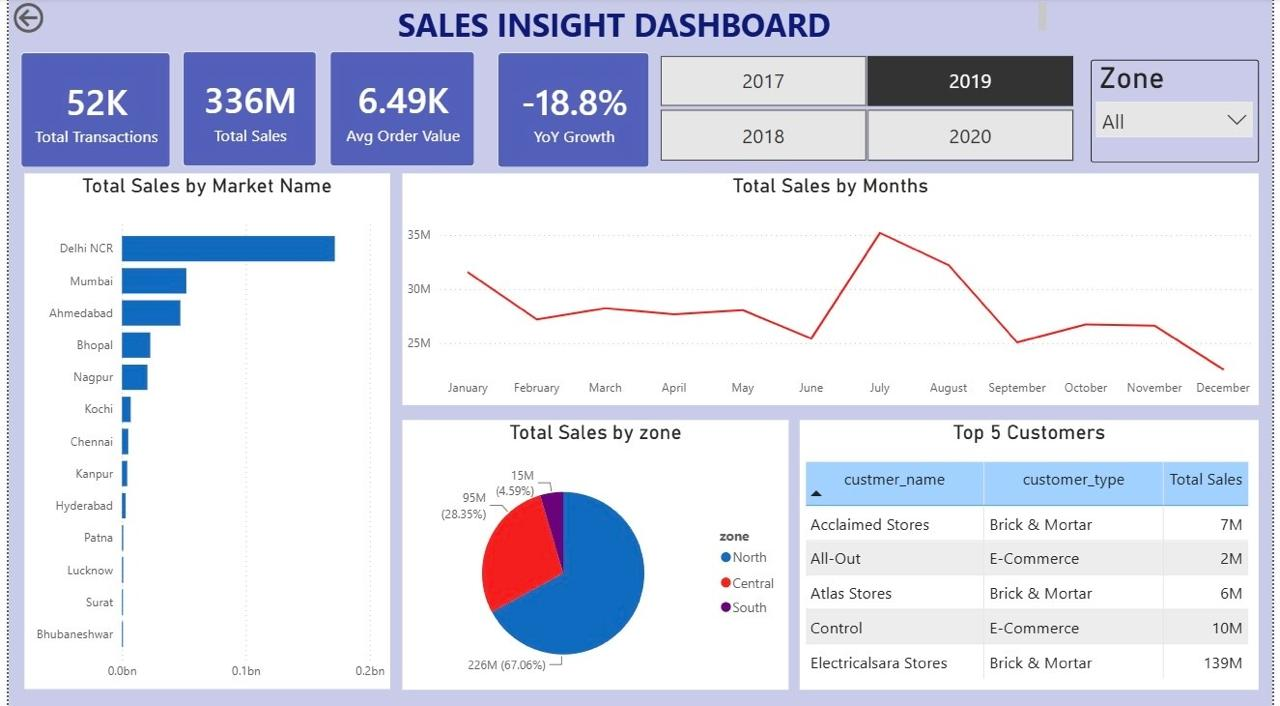

The dashboard page shown, as its layout file describes it:
{"tool":"powerbi","page":{"name":"Page 1","canvas":[1280,720],"ordinal":0},"visuals":[{"type":"cardVisual","fields":{"Data":["Base Measures.Total Sales"]},"box":[163.9,41.6,160,141],"z":0},{"type":"cardVisual","fields":{"Data":["Base Measures.Total Transactions"]},"box":[0,42.5,176.2,141],"z":1000},{"type":"cardVisual","fields":{"Data":["Base Measures.Avg Order Value"]},"box":[312.5,41.2,171.2,141.2],"z":2000},{"type":"cardVisual","fields":{"Data":["Base Measures.YoY Growth"]},"box":[482.5,42.5,178.8,141],"z":3000},{"type":"barChart","title":"Total Sales by Market Name","fields":{"Y":["Base Measures.Total Sales"],"Category":["sales markets.markets_name","sales customers.customer_type"]},"box":[16.2,177.5,370,521.2],"z":4000},{"type":"slicer","fields":{"Values":["sales date.year"]},"box":[640,56.2,457.1,110],"z":5000},{"type":"slicer","fields":{"Values":["sales markets.zone"]},"box":[1096.2,62.5,170,104.3],"z":6000},{"type":"tableEx","title":"Top 5 Customers","fields":{"Values":["sales customers.custmer_name","sales customers.customer_type","Base Measures.Total Sales"]},"box":[801.2,426.2,465,272.5],"z":7000},{"type":"actionButton","box":[0,0,100,40],"z":8000},{"type":"lineChart","title":"Total Sales by Months","fields":{"Y":["Base Measures.Total Sales"],"Category":["sales date.month_name"]},"box":[398.8,177.5,867.1,234.3],"z":9000},{"type":"pieChart","fields":{"Category":["sales markets.zone"],"Y":["Base Measures.Total Sales"]},"box":[398.8,426.2,391.2,272.5],"z":10000},{"type":"textbox","box":[100,0,955,44.2],"z":11000}]}

Visuals, with their boxes in screenshot pixels (x1, y1, x2, y2), scaled from the page's 1280x720 canvas onto the 1280x706 screenshot:
cardVisual - Base Measures.Total Sales: bbox(164, 41, 324, 179)
cardVisual - Base Measures.Total Transactions: bbox(0, 42, 176, 180)
cardVisual - Base Measures.Avg Order Value: bbox(312, 40, 484, 179)
cardVisual - Base Measures.YoY Growth: bbox(482, 42, 661, 180)
"Total Sales by Market Name" barChart: bbox(16, 174, 386, 685)
slicer - sales date.year: bbox(640, 55, 1097, 163)
slicer - sales markets.zone: bbox(1096, 61, 1266, 164)
"Top 5 Customers" tableEx: bbox(801, 418, 1266, 685)
actionButton: bbox(0, 0, 100, 39)
"Total Sales by Months" lineChart: bbox(399, 174, 1266, 404)
pieChart - sales markets.zone x Base Measures.Total Sales: bbox(399, 418, 790, 685)
textbox: bbox(100, 0, 1055, 43)
